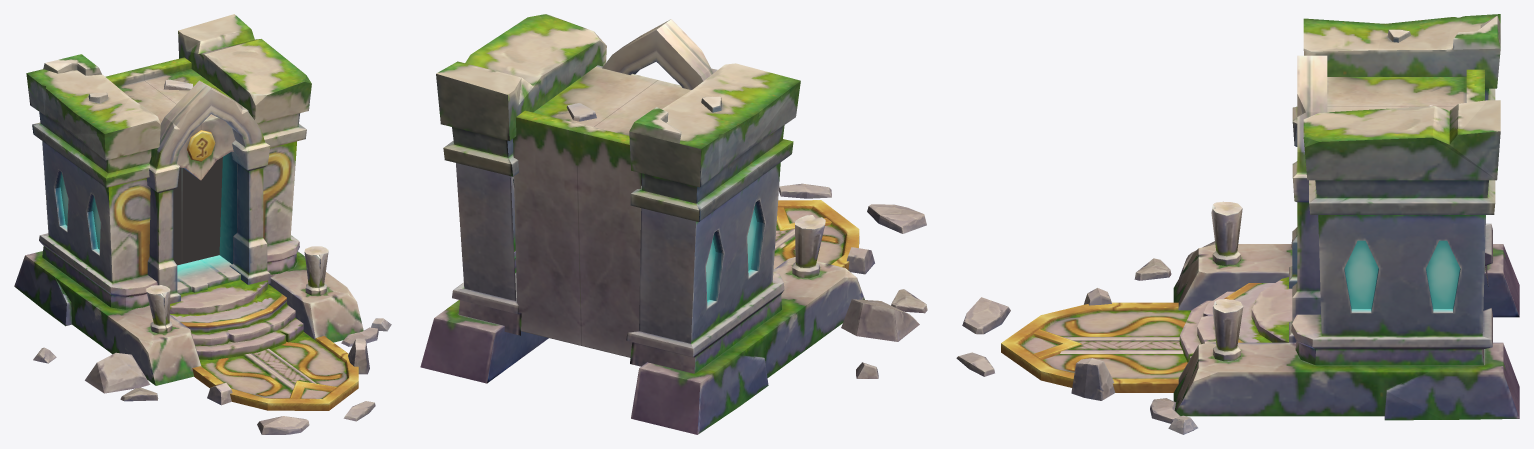
Rendered from boss_4.FBX.
3 views of the same model, side by side, from view 1: azimuth 30°, elevation 25°; view 2: azimuth 150°, elevation 25°; view 3: azimuth 270°, elevation 25° (orthographic). The views are drawn at different scales.
Parts seen in each view (by area): view 1: BOSS4; view 2: BOSS4; view 3: BOSS4.
Part boxes in pixels (<box>): BOSS4: <box>14,14,391,434</box>; BOSS4: <box>420,14,927,434</box>; BOSS4: <box>956,14,1519,434</box>.
Size of the model in its own units: 1066 by 785 by 1351.
